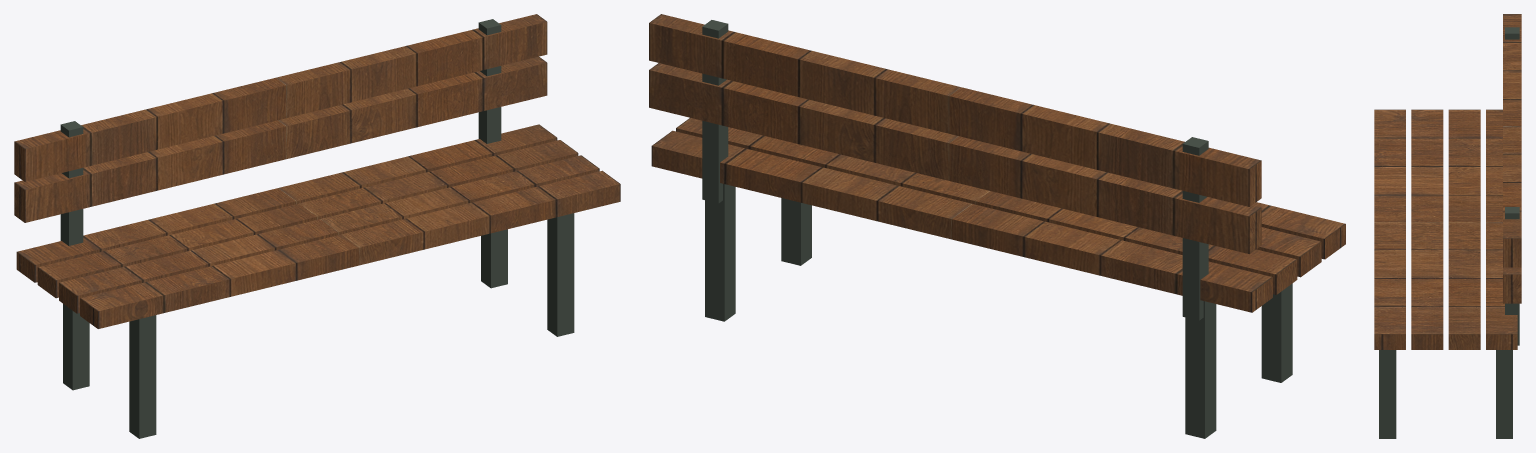
The model's file is bench.glb.
The picture shows the model from 3 angles, left to right: view 1: azimuth 30°, elevation 25°; view 2: azimuth 150°, elevation 25°; view 3: azimuth 270°, elevation 25°; orthographic projection. The views are drawn at different scales.
Parts seen in each view (by area): view 1: bench; view 2: bench; view 3: bench.
Part boxes in pixels (x1,y1,x2,y2): bench: (14, 14, 620, 438); bench: (649, 14, 1345, 438); bench: (1374, 14, 1521, 438).
Bounding box in the file's own units: 2 × 0.935 × 0.555.
Materials: 2 (1 with a texture image).
